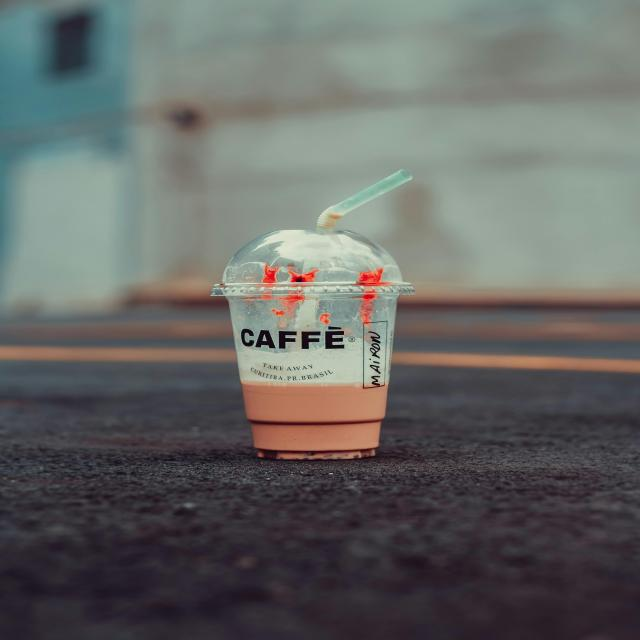cup: (209, 230, 413, 460)
